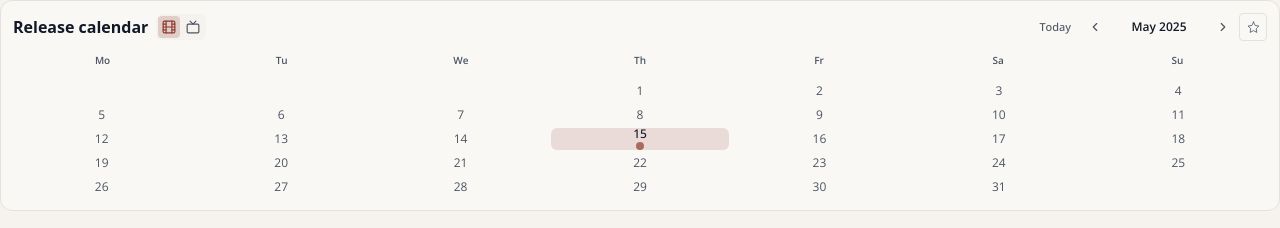
Scenario: ReleaseCalendar › day selection › clicking X closes the panel and restores the calendar
Step 1. Click the button named "May 15, 2025" → {"x": 640, "y": 139}, box left=551, top=128, right=729, bottom=150
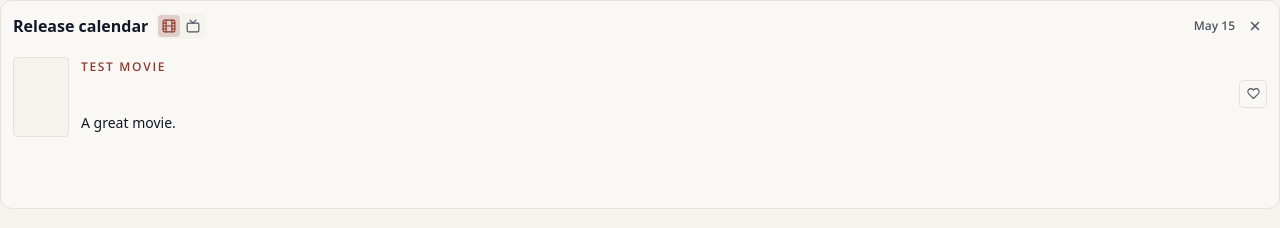
expect the text "Test Movie" is shown: met, box left=81, top=58, right=166, bottom=75
Step 2. Click the button named "Close" → {"x": 1255, "y": 26}, box left=1243, top=14, right=1267, bottom=38
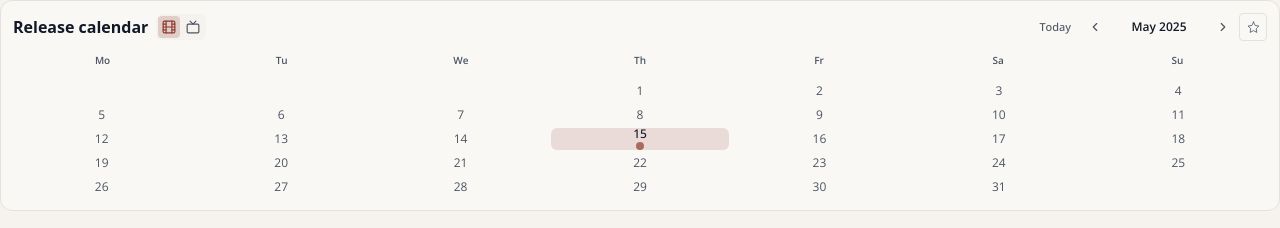
expect the text "Test Movie" is gone: met
expect the text "May 2025" is shown: met, box left=1132, top=18, right=1186, bottom=35
